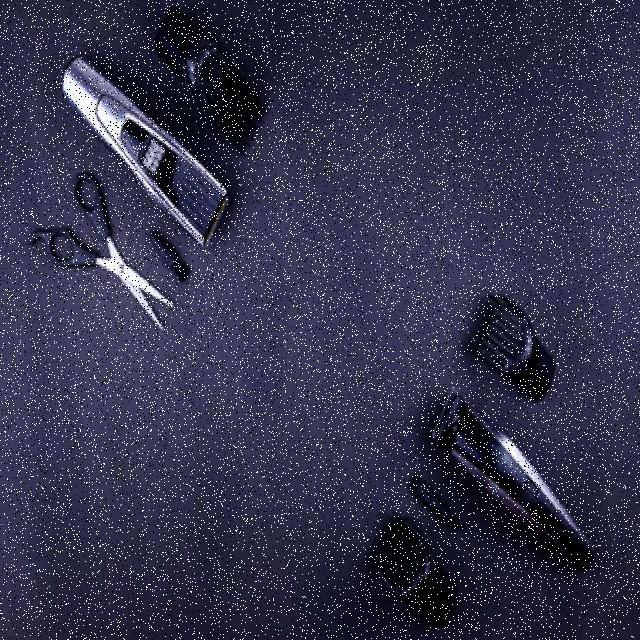scissors: (21, 152, 184, 345)
